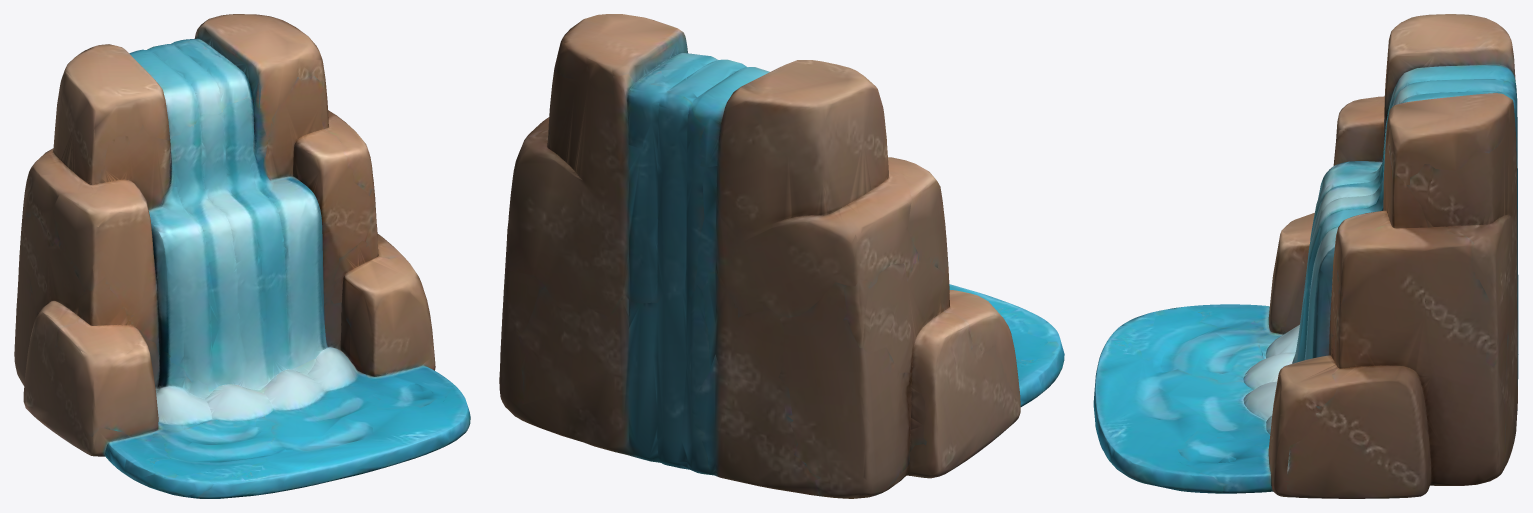
The model's file is waterfall_pbr.glb.
3 renders of one model, left to right at view 1: azimuth 30°, elevation 25°; view 2: azimuth 150°, elevation 25°; view 3: azimuth 270°, elevation 25°, orthographic. The views are drawn at different scales.
Visible parts, largest first — view 1: model; view 2: model; view 3: model.
Part boxes in pixels (x1,y1,x2,y2): model: (14,14,470,498); model: (499,14,1064,498); model: (1093,14,1518,498).
Bounding box in the file's own units: 1.91 × 1.61 × 1.83.
Materials: 1 (1 with a texture image).
